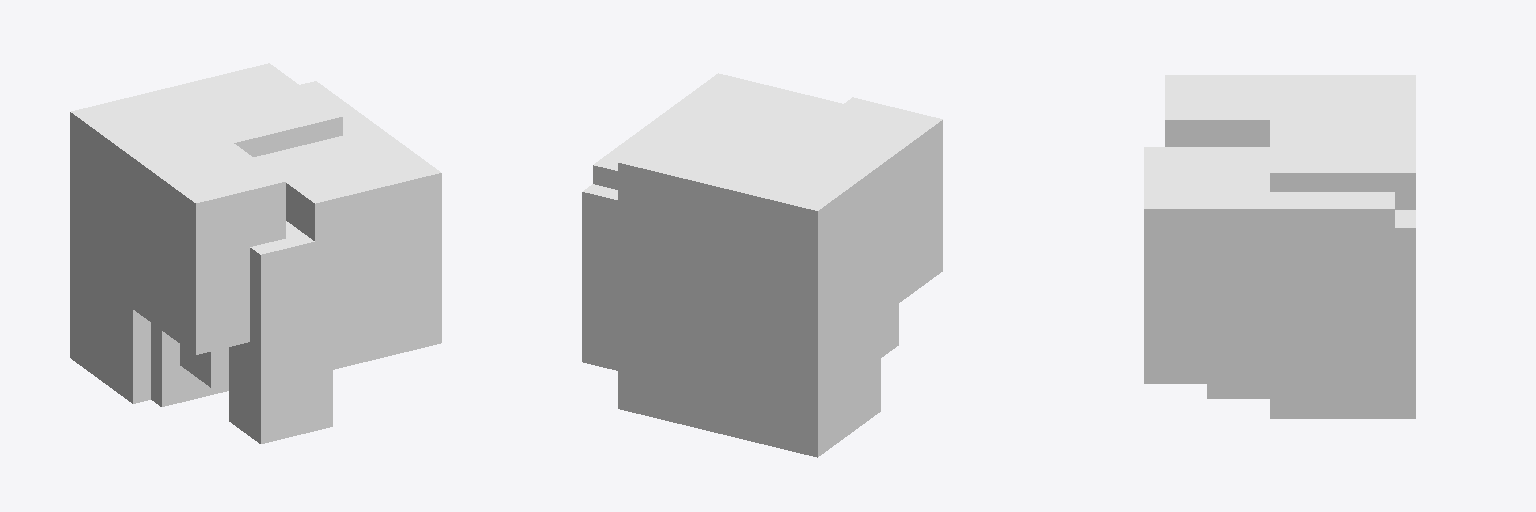
Rendered from block_test_13_1.obj.
3 views of the same model, side by side, from view 1: azimuth 30°, elevation 25°; view 2: azimuth 150°, elevation 25°; view 3: azimuth 270°, elevation 25° (orthographic).
Visible parts, largest first — view 1: object 1; view 2: object 1; view 3: object 1.
Part boxes in pixels (left/top/right/bottom): object 1: left=70, top=63, right=441, bottom=443; object 1: left=582, top=73, right=942, bottom=457; object 1: left=1144, top=75, right=1415, bottom=418.
Size of the model in its own units: 1.3 by 1.3 by 1.3.